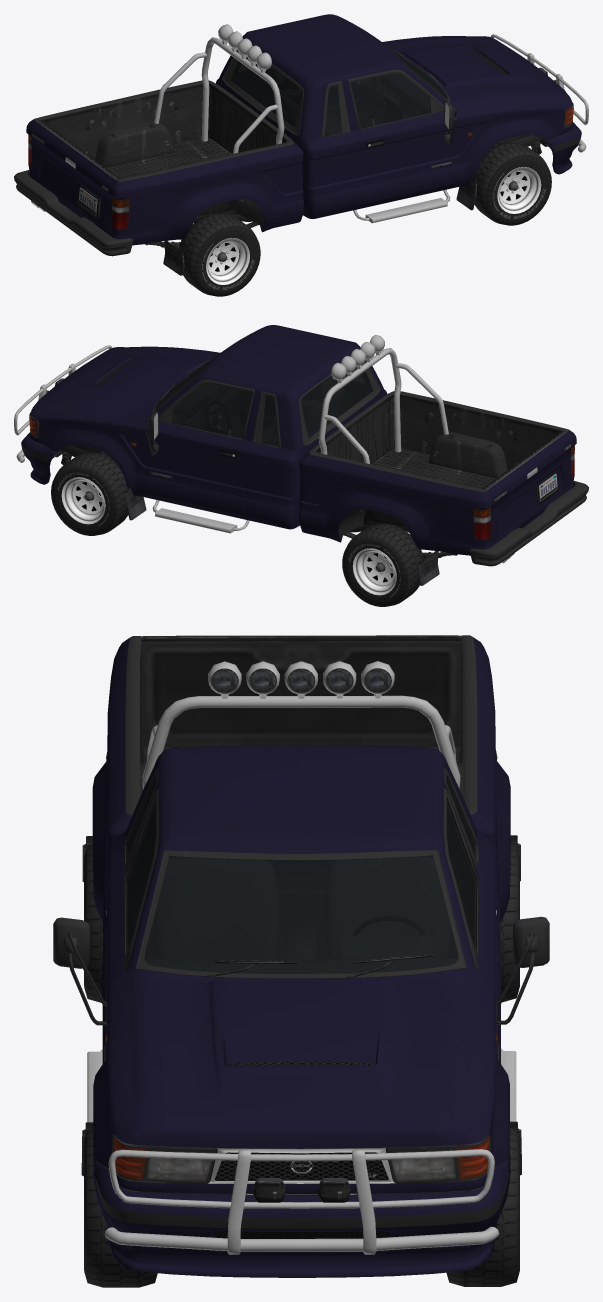
The model's file is pickup.glb.
The picture shows the model from 3 angles, top to bottom: view 1: azimuth 30°, elevation 25°; view 2: azimuth 150°, elevation 25°; view 3: azimuth 270°, elevation 25°; orthographic projection. The views are drawn at different scales.
Visible parts, largest first — view 1: body, wheel_RR, wheel_FR; view 2: body, wheel_RL, wheel_FL; view 3: body, wheel_FL, wheel_FR, wheel_RL, wheel_RR.
Part boxes in pixels (left/top/right/bottom): body: left=14, top=14, right=588, bottom=275; wheel_RR: left=179, top=213, right=260, bottom=296; wheel_FR: left=474, top=142, right=551, bottom=225; body: left=14, top=325, right=588, bottom=585; wheel_RL: left=342, top=523, right=423, bottom=606; wheel_FL: left=51, top=452, right=128, bottom=535; body: left=53, top=635, right=549, bottom=1277; wheel_FL: left=446, top=1128, right=519, bottom=1286; wheel_FR: left=84, top=1129, right=157, bottom=1287; wheel_RL: left=500, top=844, right=519, bottom=1002; wheel_RR: left=84, top=845, right=102, bottom=1002.
Bounding box in the file's own units: 5.1 × 1.99 × 2.22.
8 materials, 7 textured.
